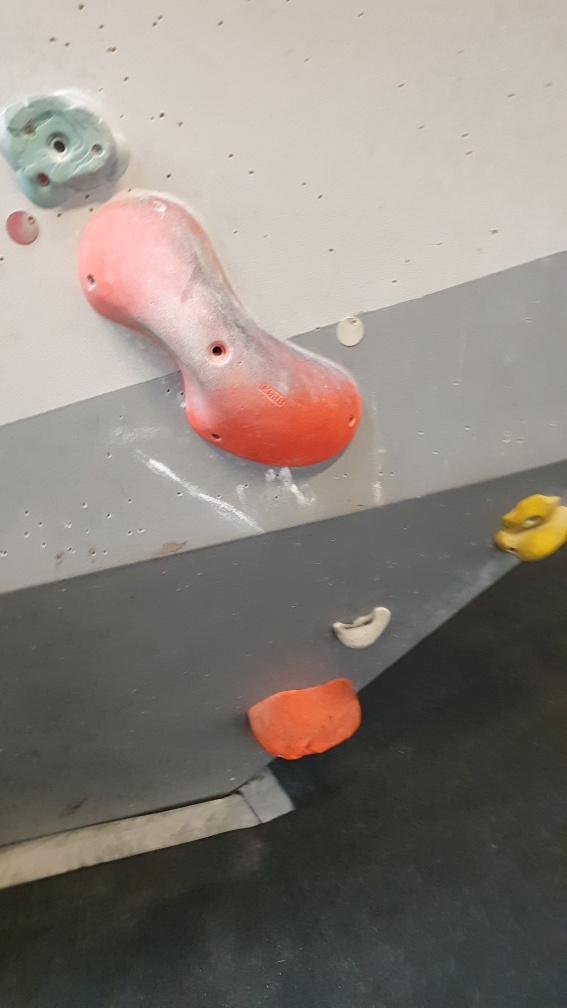Pinch: (75, 191, 363, 472)
